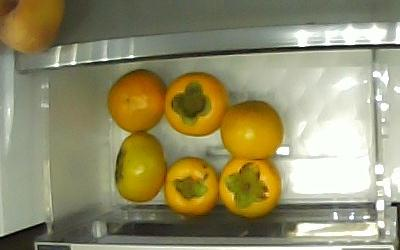persimmon: (166, 72, 227, 137), (106, 70, 166, 134), (220, 156, 282, 217), (113, 133, 165, 201), (222, 101, 283, 158), (164, 158, 220, 215)
